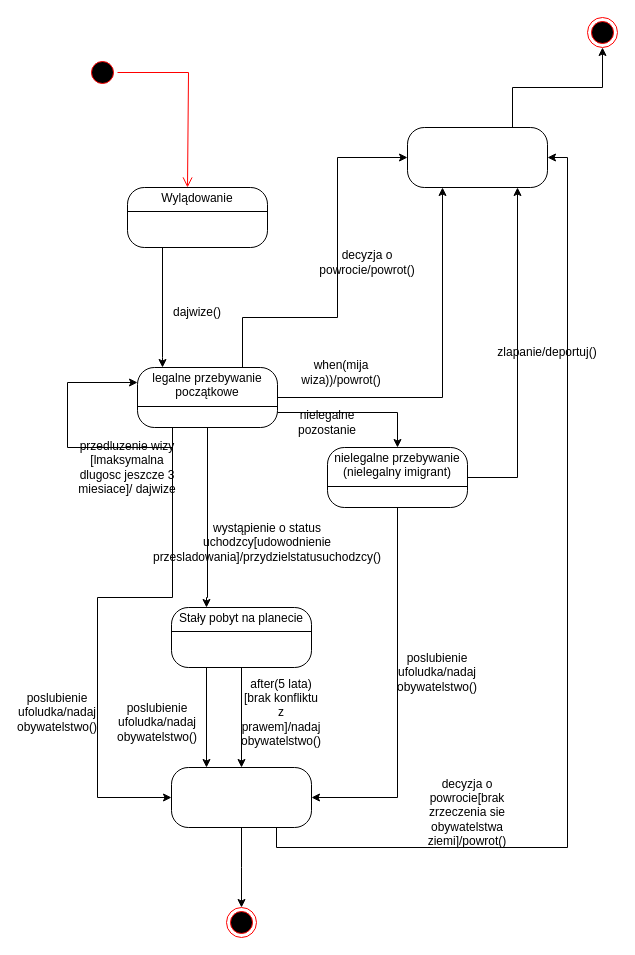
Some shapes in this 635 by 955 pixel diagram are drawn without their labels. The shapes that lost their labels are listed below. From the top down, each one's box as (x1, y1, x2, y2) in pixels, then its label:
(406, 126, 548, 188): Wylądowanie na ziemi
(170, 766, 312, 828): Obywatel marsa
